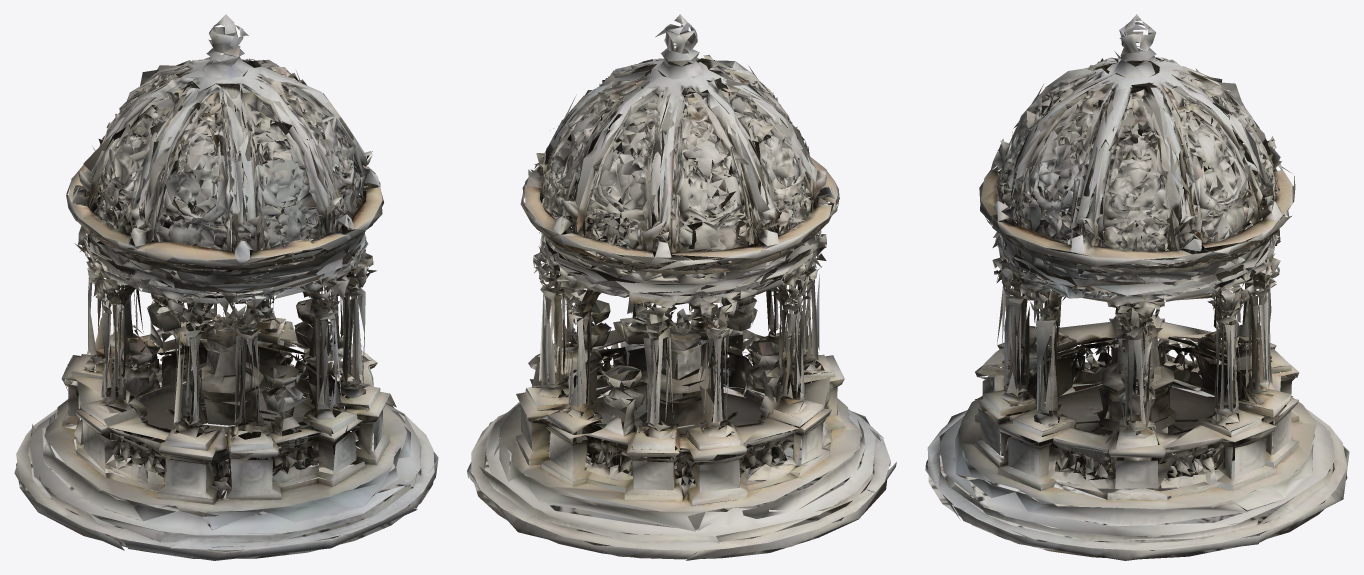
The model's file is Marble_Pavilion_town.glb.
The picture shows the model from 3 angles, left to right: view 1: azimuth 30°, elevation 25°; view 2: azimuth 150°, elevation 25°; view 3: azimuth 270°, elevation 25°; orthographic projection.
Parts seen in each view (by area): view 1: Marble_Pavilion; view 2: Marble_Pavilion; view 3: Marble_Pavilion.
Part boxes in pixels (x1,y1,x2,y2): Marble_Pavilion: (14,14,438,560); Marble_Pavilion: (467,14,896,560); Marble_Pavilion: (925,14,1349,560).
Bounding box in the file's own units: 1.62 × 1.92 × 1.61.
Materials: 1 (1 with a texture image).
